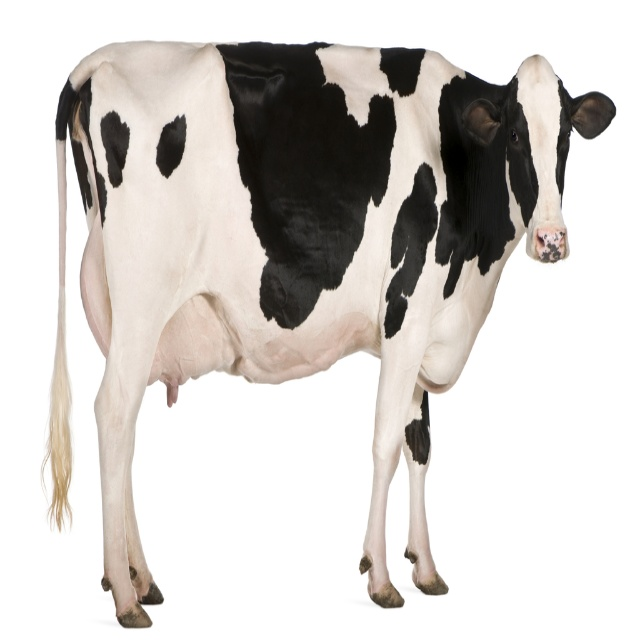Cattle: (40, 40, 616, 629)
